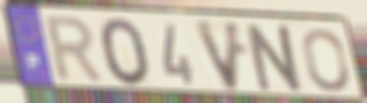4: (161, 23, 195, 86)
N: (244, 22, 307, 95)
O: (98, 16, 153, 89), (300, 27, 352, 94)
R: (43, 14, 108, 87)
V: (191, 17, 244, 94)
